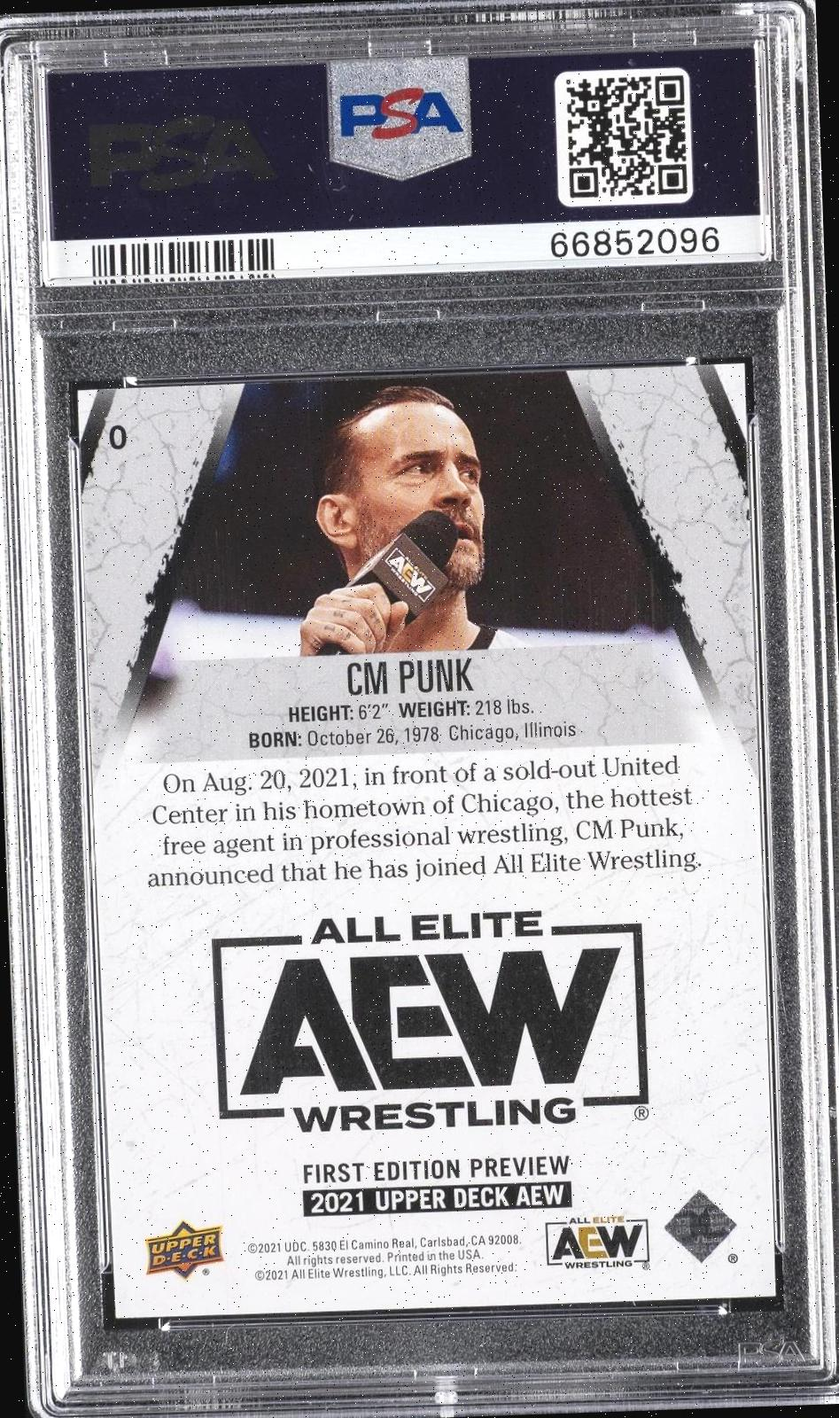card-2UtV: (76, 362, 776, 1319)
